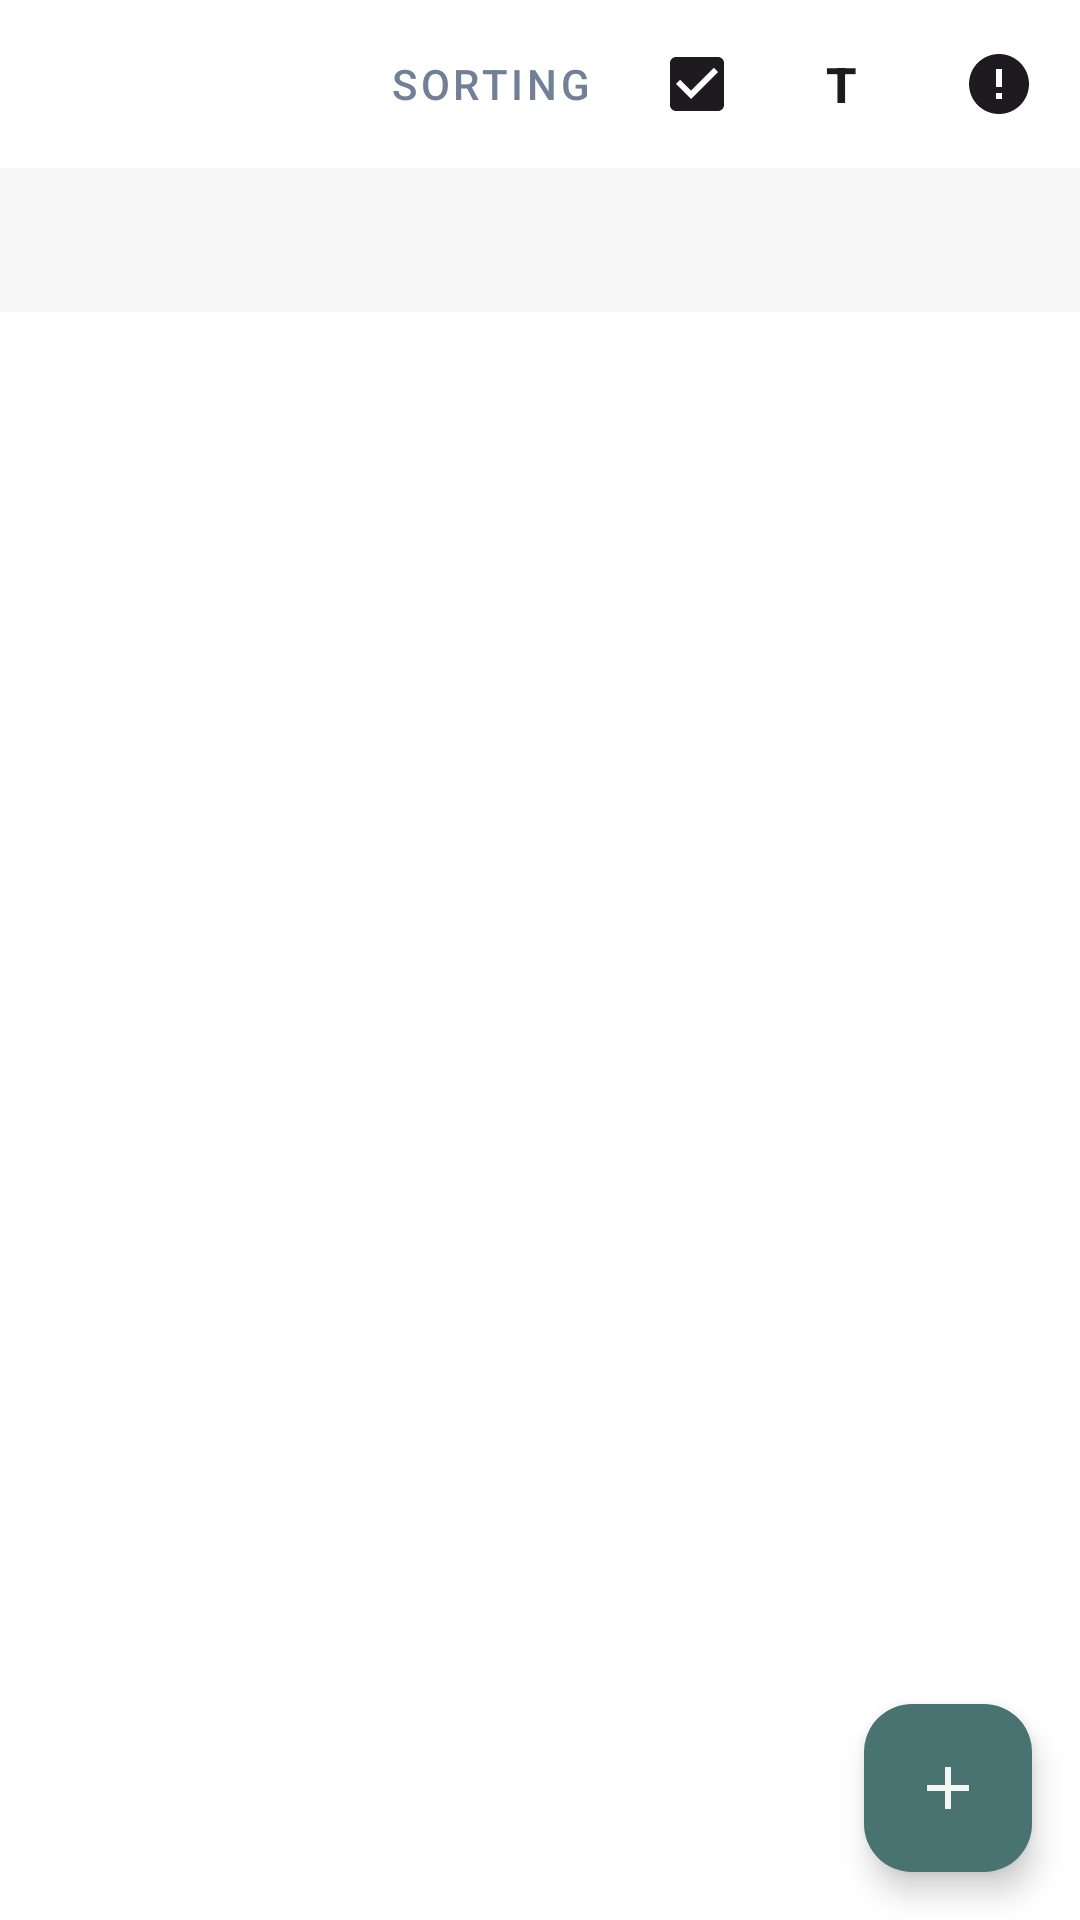

Screen size 1080×1920. Icon name, then its box in pixels as [x1=x1, y1=y1, x2=x2, y2=y2]:
Create: [x1=864, y1=1704, x2=1032, y2=1872]
